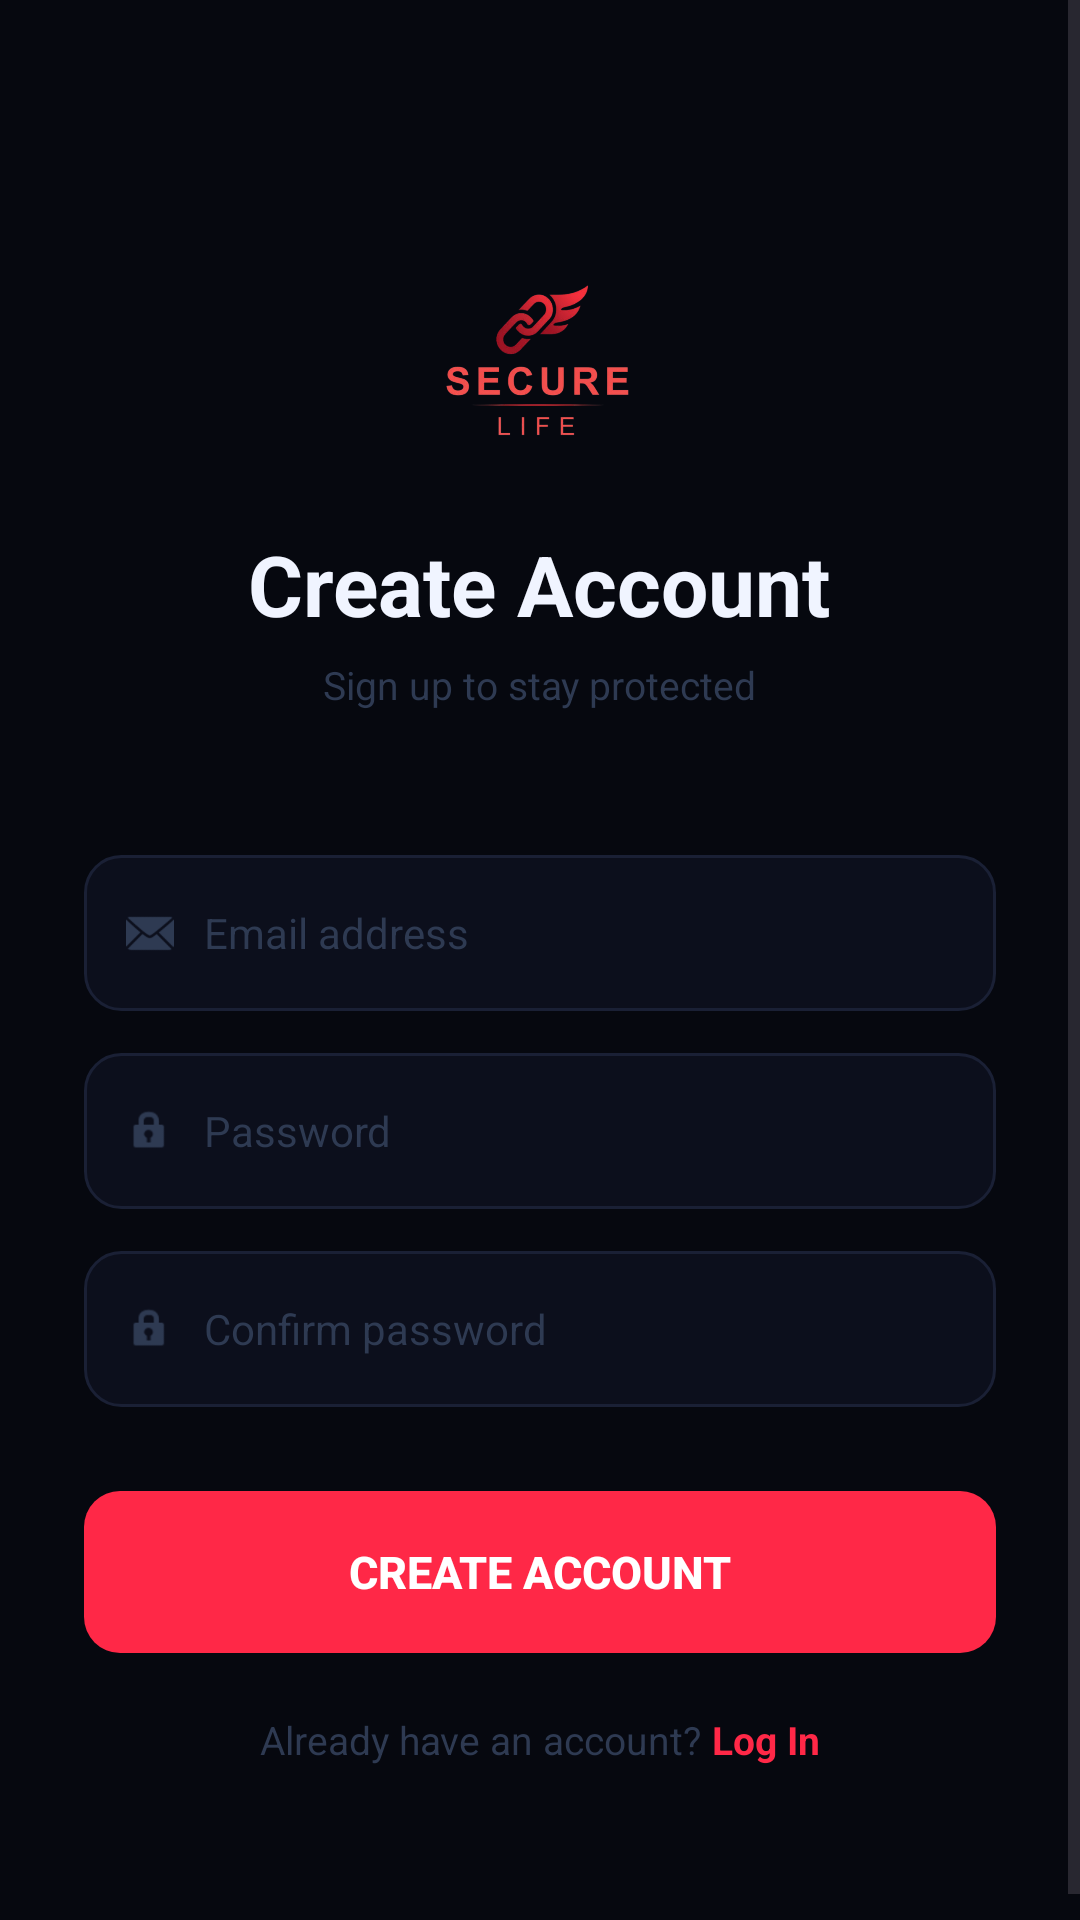

Icons on this 1080 x 1920 Android screen, each with its box as Rect(x1, y1, x2, y2):
lock idle: Rect(134, 1112, 164, 1147), Rect(134, 1310, 164, 1345)
